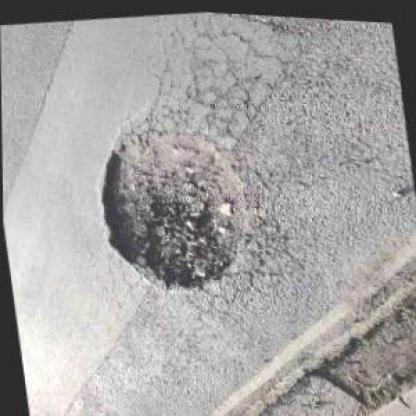pothole: (84, 93, 254, 304), (292, 264, 414, 414)
